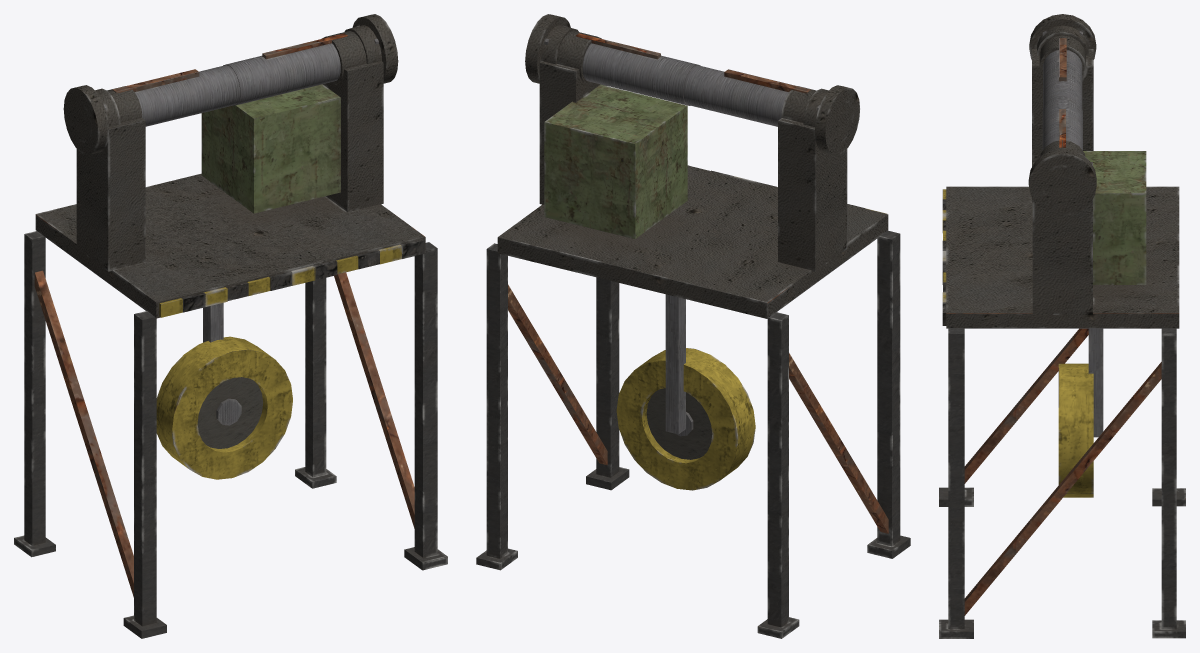
Rendered from feGrinder_HD.fbx.
The picture shows the model from 3 angles, left to right: view 1: azimuth 30°, elevation 25°; view 2: azimuth 150°, elevation 25°; view 3: azimuth 270°, elevation 25°; orthographic projection. The views are drawn at different scales.
Parts seen in each view (by area): view 1: feGrinder_Base, FeReach_Legs, FeSpin_DriveShaft, FeSpin_x6_InlineWheel, FeReach_Drop; view 2: feGrinder_Base, FeReach_Legs, FeSpin_DriveShaft, FeReach_Drop, FeSpin_x6_InlineWheel; view 3: feGrinder_Base, FeReach_Legs, FeSpin_DriveShaft, FeReach_Drop.
Boxes of the visible parts, left/top/right/bottom form: feGrinder_Base: left=35, top=31, right=425, bottom=479; FeReach_Legs: left=14, top=231, right=447, bottom=638; FeSpin_DriveShaft: left=63, top=14, right=398, bottom=155; FeSpin_x6_InlineWheel: left=197, top=377, right=263, bottom=448; FeReach_Drop: left=203, top=303, right=223, bottom=342; feGrinder_Base: left=497, top=31, right=888, bottom=490; FeReach_Legs: left=476, top=230, right=910, bottom=638; FeSpin_DriveShaft: left=525, top=14, right=859, bottom=155; FeReach_Drop: left=665, top=294, right=685, bottom=434; FeSpin_x6_InlineWheel: left=646, top=388, right=712, bottom=459; feGrinder_Base: left=942, top=35, right=1179, bottom=497; FeReach_Legs: left=939, top=328, right=1185, bottom=638; FeSpin_DriveShaft: left=1028, top=14, right=1096, bottom=215; FeReach_Drop: left=1088, top=328, right=1103, bottom=437.
Bounding box in the file's own units: 1.02 × 1.6 × 0.743.
Materials: 1 (1 with a texture image).
